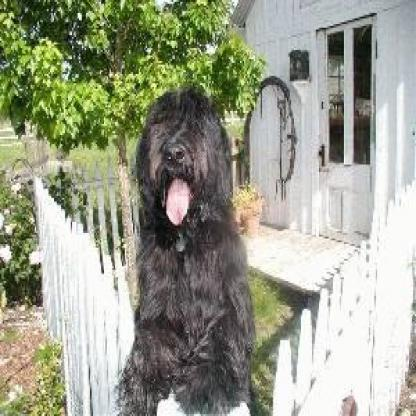briard: (112, 84, 252, 412)
